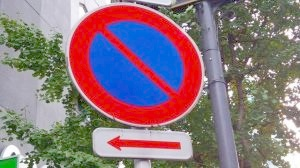Prohibition_sign: (58, 2, 216, 132)
